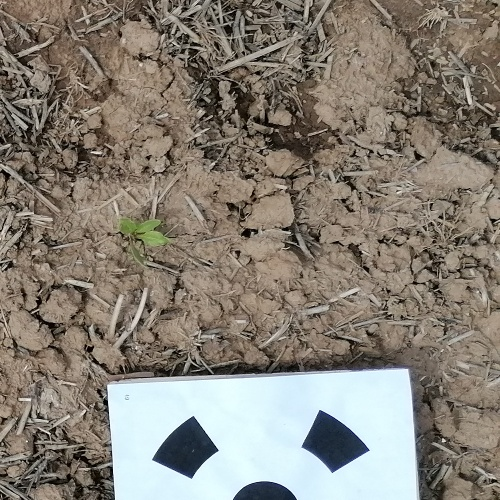beet: (118, 218, 171, 266)
